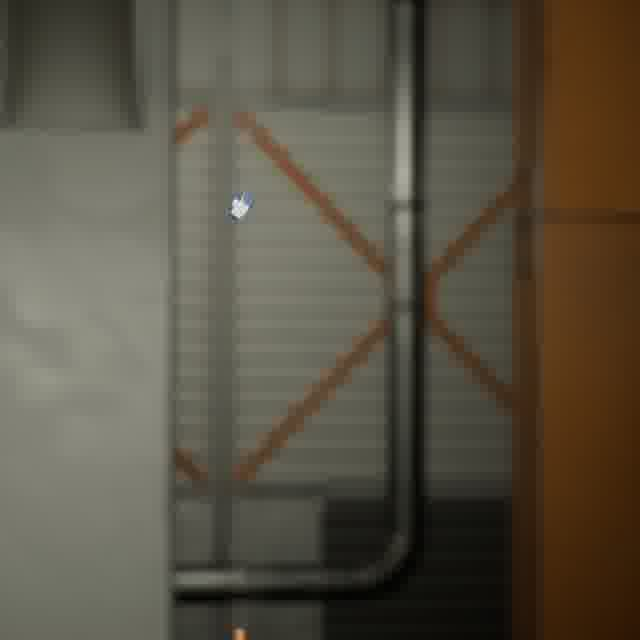nut: (221, 186, 259, 224)
